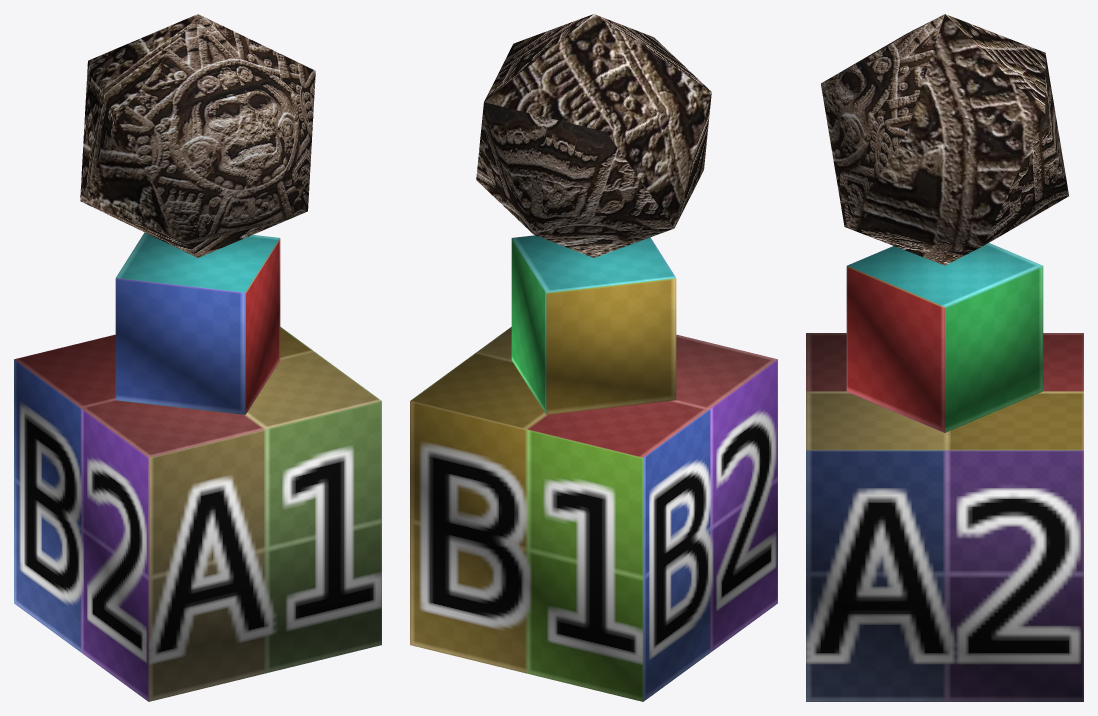
File: Snowman.gltf
3 views of the same model, side by side, from view 1: azimuth 30°, elevation 25°; view 2: azimuth 150°, elevation 25°; view 3: azimuth 270°, elevation 25° (orthographic). The views are drawn at different scales.
Parts seen in each view (by area): view 1: BaseCube, Icosphere, MiddleCube; view 2: BaseCube, Icosphere, MiddleCube; view 3: BaseCube, Icosphere, MiddleCube.
Boxes of the visible parts, x1,y1,x2,y2 form: BaseCube: [14, 327, 381, 701]; Icosphere: [80, 14, 315, 257]; MiddleCube: [115, 232, 280, 414]; BaseCube: [410, 327, 777, 701]; Icosphere: [476, 14, 711, 257]; MiddleCube: [511, 235, 676, 414]; BaseCube: [806, 333, 1083, 701]; Icosphere: [821, 14, 1068, 265]; MiddleCube: [846, 243, 1043, 432].
Size of the model in its own units: 0.59 by 1.47 by 0.59.
Materials: 3 (3 with a texture image).
